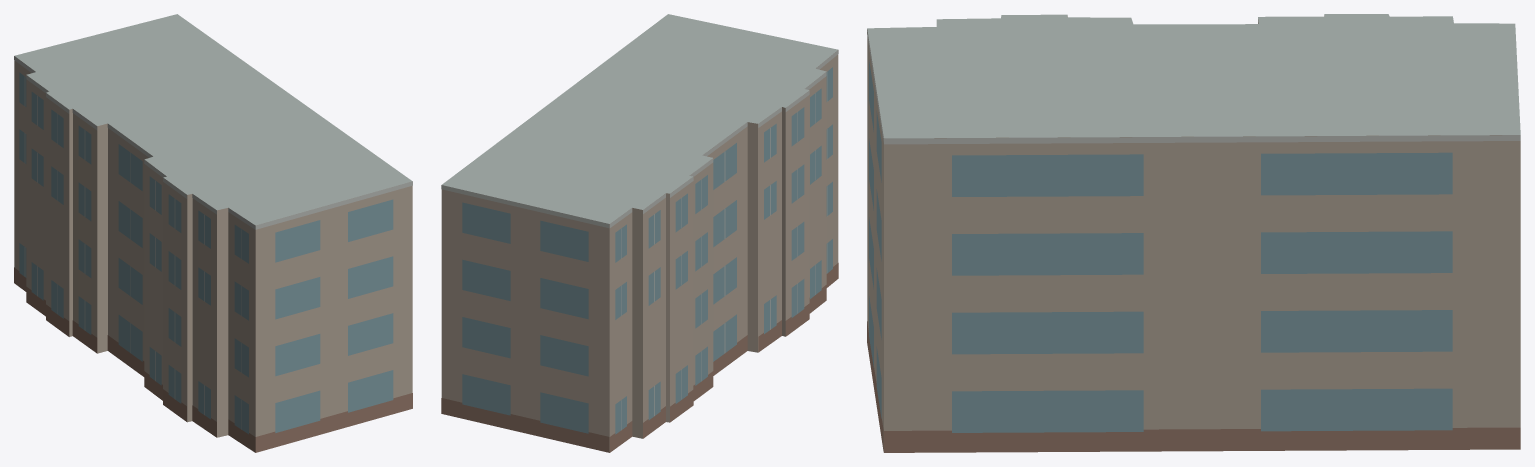
The model's file is survey-upis-32550163.glb.
3 renders of one model, left to right at view 1: azimuth 30°, elevation 25°; view 2: azimuth 150°, elevation 25°; view 3: azimuth 270°, elevation 25°, orthographic. The views are drawn at different scales.
Visible parts, largest first — view 1: survey-upis-32550163.tmp; view 2: survey-upis-32550163.tmp; view 3: survey-upis-32550163.tmp.
Part boxes in pixels (<box>): survey-upis-32550163.tmp: <box>14,14,412,452</box>; survey-upis-32550163.tmp: <box>441,14,838,452</box>; survey-upis-32550163.tmp: <box>867,14,1520,452</box>.
Size of the model in its own units: 10.87 by 12.8 by 24.12.
